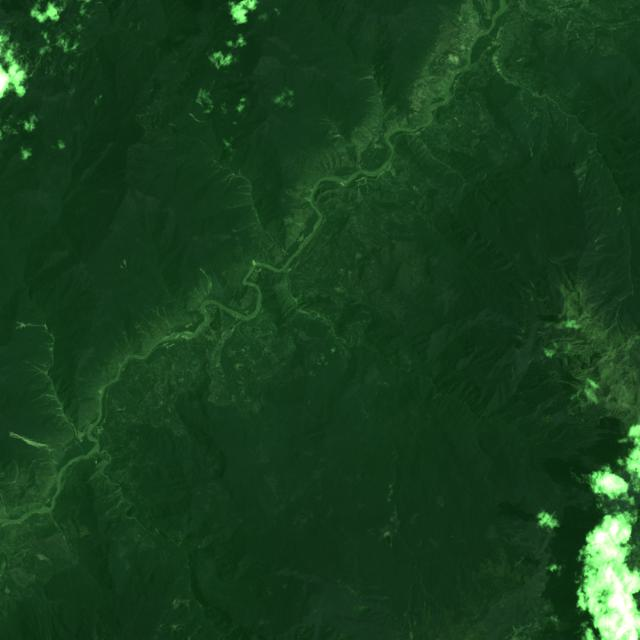landslides: (9, 431, 56, 455), (49, 514, 67, 543), (575, 153, 596, 175), (156, 306, 171, 334), (162, 306, 176, 331), (23, 360, 47, 374), (105, 498, 123, 516), (94, 452, 111, 470), (86, 468, 105, 484), (123, 259, 137, 280), (232, 221, 260, 231), (200, 268, 211, 293), (620, 443, 634, 461), (188, 624, 202, 640), (173, 598, 192, 609), (172, 619, 191, 630), (102, 489, 121, 500), (36, 553, 52, 565), (0, 489, 7, 515), (572, 127, 583, 142), (111, 331, 120, 349), (189, 113, 205, 123), (36, 393, 55, 401), (34, 360, 50, 369), (16, 324, 44, 329), (578, 174, 585, 194), (616, 460, 623, 479), (126, 21, 136, 33), (223, 172, 235, 182), (13, 461, 18, 484), (44, 397, 57, 405), (196, 87, 202, 104)
